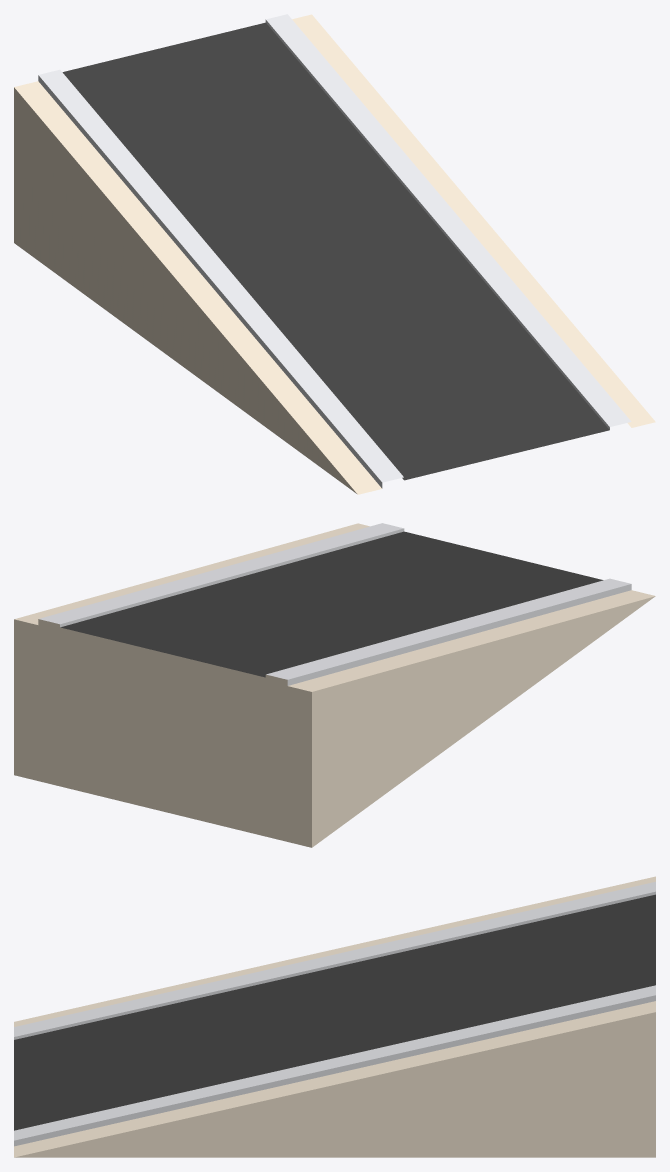
The model's file is roadRampLongWall.glb.
3 renders of one model, top to bottom at view 1: azimuth 30°, elevation 25°; view 2: azimuth 150°, elevation 25°; view 3: azimuth 270°, elevation 25°, orthographic. The views are drawn at different scales.
Visible parts, largest first — view 1: roadRampLongWall(Clone); view 2: roadRampLongWall(Clone); view 3: roadRampLongWall(Clone).
Part boxes in pixels (<box>): roadRampLongWall(Clone): <box>14,14,655,494</box>; roadRampLongWall(Clone): <box>14,523,655,847</box>; roadRampLongWall(Clone): <box>14,876,655,1157</box>.
Bounding box in the file's own units: 1 × 0.52 × 2.
